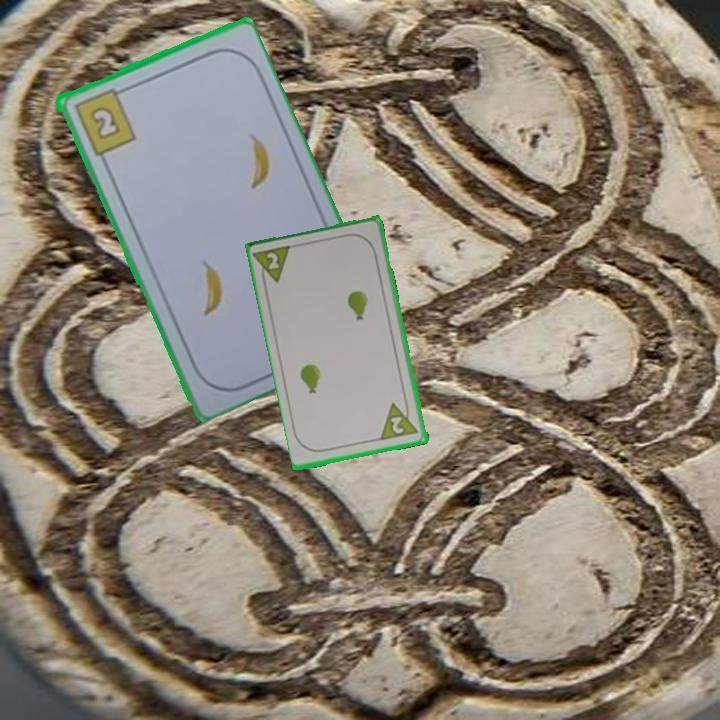2b: (70, 84, 138, 158)
2p: (251, 242, 295, 290), (387, 413, 407, 437)
